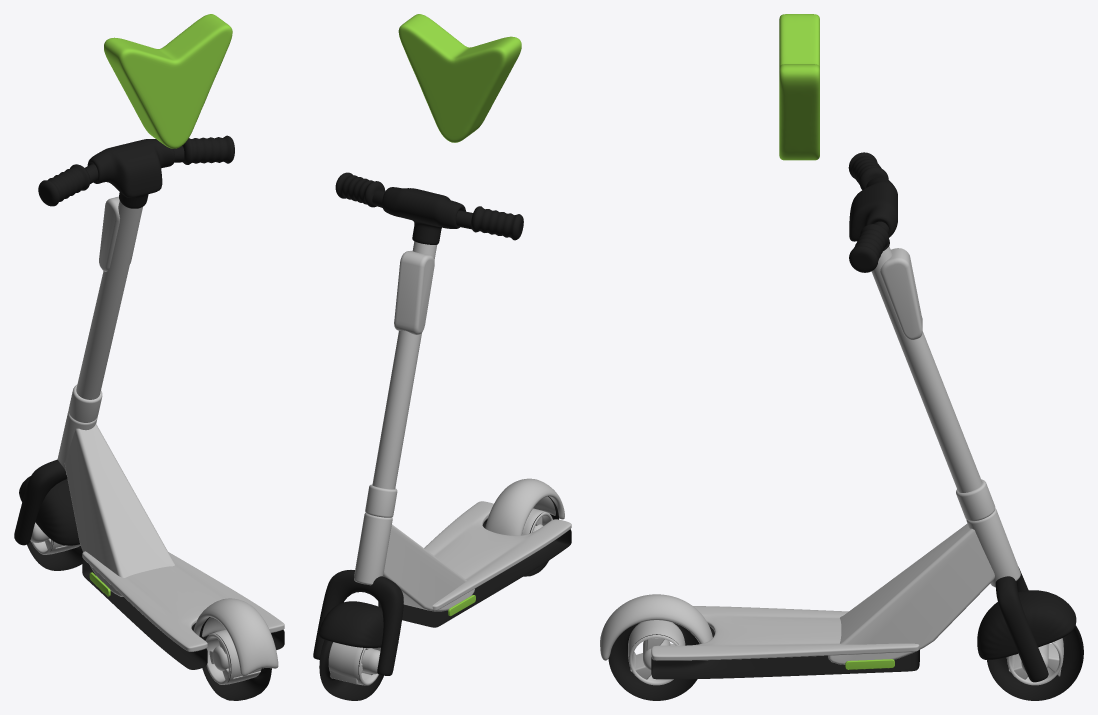
Rendered from ride-in-progress-animated-3d-icon-1402788253130.glb.
The picture shows the model from 3 angles, left to right: view 1: azimuth 30°, elevation 25°; view 2: azimuth 150°, elevation 25°; view 3: azimuth 270°, elevation 25°; orthographic projection. The views are drawn at different scales.
Parts seen in each view (by area): view 1: Indicator, Headtube.002, Deck.002, Lower Steering.002, Upper Steering.002, Spakbor.002, Grip.002, Deck.005, Front Fender.002, Fork.002, Rim.004, Wheel.004 (+4 smaller); view 2: Indicator, Lower Steering.002, Deck.002, Headtube.002, Fork.002, Upper Steering.002, Spakbor.002, Deck.005, Front Fender.002, Grip.002, Clamp.005, Rim.005 (+3 smaller); view 3: Headtube.002, Deck.002, Lower Steering.002, Indicator, Deck.005, Front Fender.002, Spakbor.002, Wheel.005, Fork.002, Wheel.004, Upper Steering.002, Grip.002 (+4 smaller).
Boxes of the visible parts, left/top/right/bottom form: Indicator: left=104, top=14, right=232, bottom=148; Headtube.002: left=64, top=424, right=174, bottom=596; Deck.002: left=82, top=551, right=284, bottom=651; Lower Steering.002: left=76, top=196, right=143, bottom=399; Upper Steering.002: left=85, top=139, right=184, bottom=208; Spakbor.002: left=193, top=598, right=278, bottom=676; Grip.002: left=38, top=135, right=234, bottom=206; Deck.005: left=82, top=559, right=284, bottom=669; Front Fender.002: left=19, top=476, right=79, bottom=545; Fork.002: left=14, top=459, right=67, bottom=545; Rim.004: left=205, top=629, right=261, bottom=684; Wheel.004: left=199, top=617, right=271, bottom=700; Indicator: left=398, top=14, right=521, bottom=142; Lower Steering.002: left=372, top=241, right=436, bottom=489; Deck.002: left=424, top=501, right=571, bottom=610; Headtube.002: left=383, top=524, right=474, bottom=611; Fork.002: left=313, top=570, right=403, bottom=675; Upper Steering.002: left=372, top=187, right=472, bottom=244; Spakbor.002: left=485, top=478, right=564, bottom=535; Deck.005: left=378, top=518, right=571, bottom=627; Front Fender.002: left=318, top=601, right=398, bottom=647; Grip.002: left=335, top=172, right=523, bottom=240; Clamp.005: left=354, top=513, right=392, bottom=585; Rim.005: left=328, top=642, right=380, bottom=685; Headtube.002: left=828, top=523, right=994, bottom=664; Deck.002: left=651, top=606, right=919, bottom=660; Lower Steering.002: left=871, top=246, right=982, bottom=492; Indicator: left=779, top=14, right=819, bottom=160; Deck.005: left=651, top=626, right=919, bottom=679; Front Fender.002: left=977, top=590, right=1076, bottom=660; Spakbor.002: left=600, top=594, right=712, bottom=660; Wheel.005: left=987, top=625, right=1083, bottom=700; Fork.002: left=995, top=567, right=1048, bottom=682; Wheel.004: left=608, top=622, right=699, bottom=700; Upper Steering.002: left=849, top=177, right=897, bottom=250; Grip.002: left=848, top=152, right=888, bottom=272.
Bounding box in the file's own units: 0.8364 × 2.58 × 1.72.
